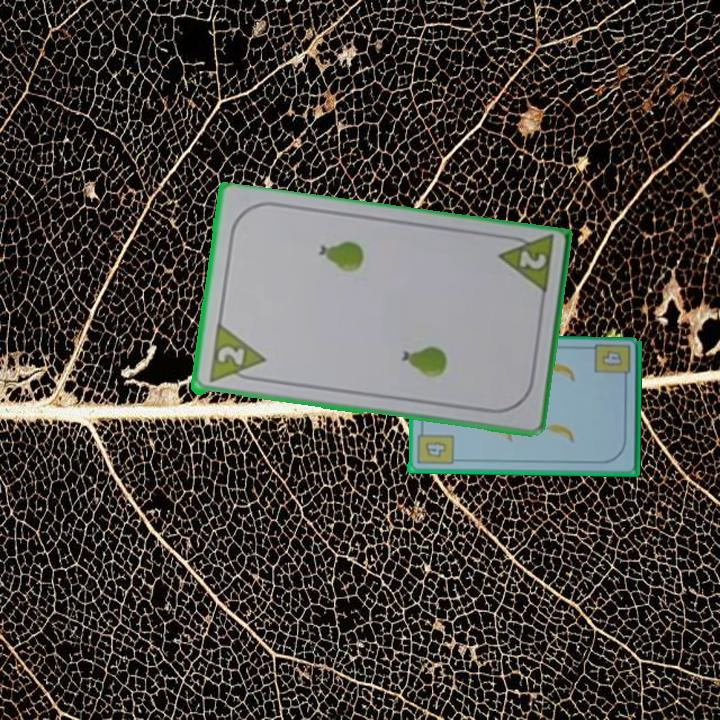2p: (213, 342, 247, 370), (515, 247, 550, 273)
4b: (592, 341, 634, 386), (413, 424, 455, 467)
